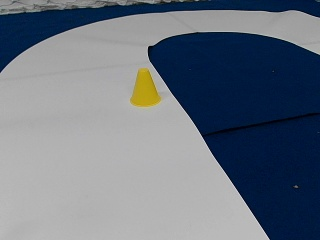cone: (130, 69, 160, 106)
